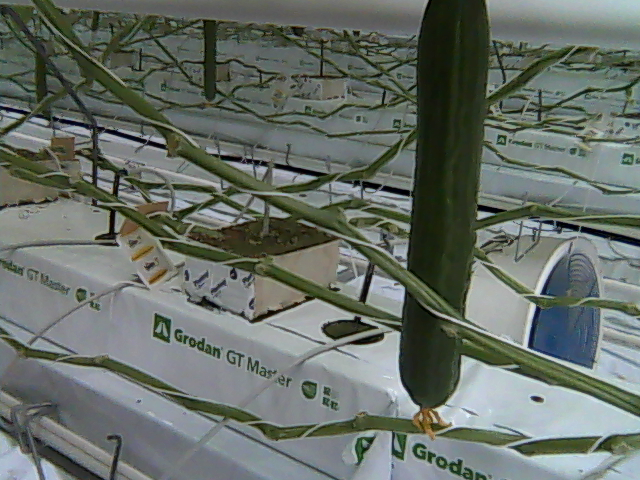concombre: (396, 1, 493, 442)
